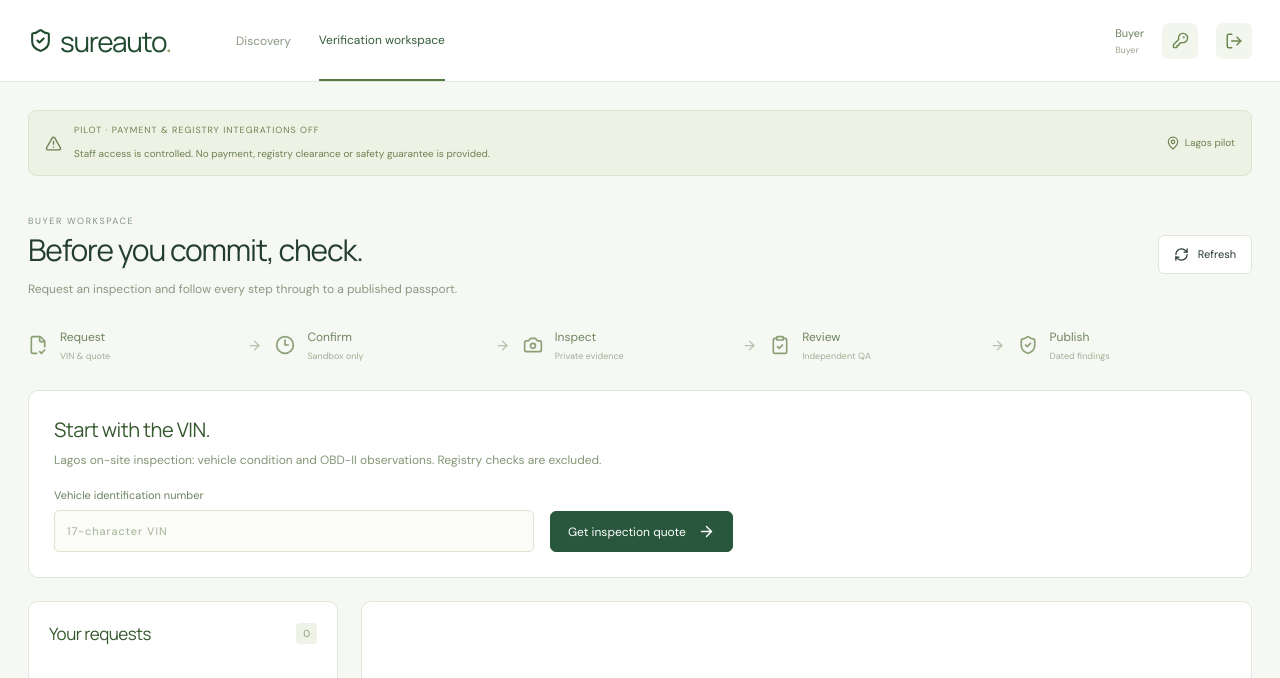
verification workspace › allows live users to change their password and reports session revocation
Check: the heading "Before you commit, check." is shown, box [28,229,363,270]
Click the button named "Open account security".
click(1180, 40)  # box [1162,22,1198,58]
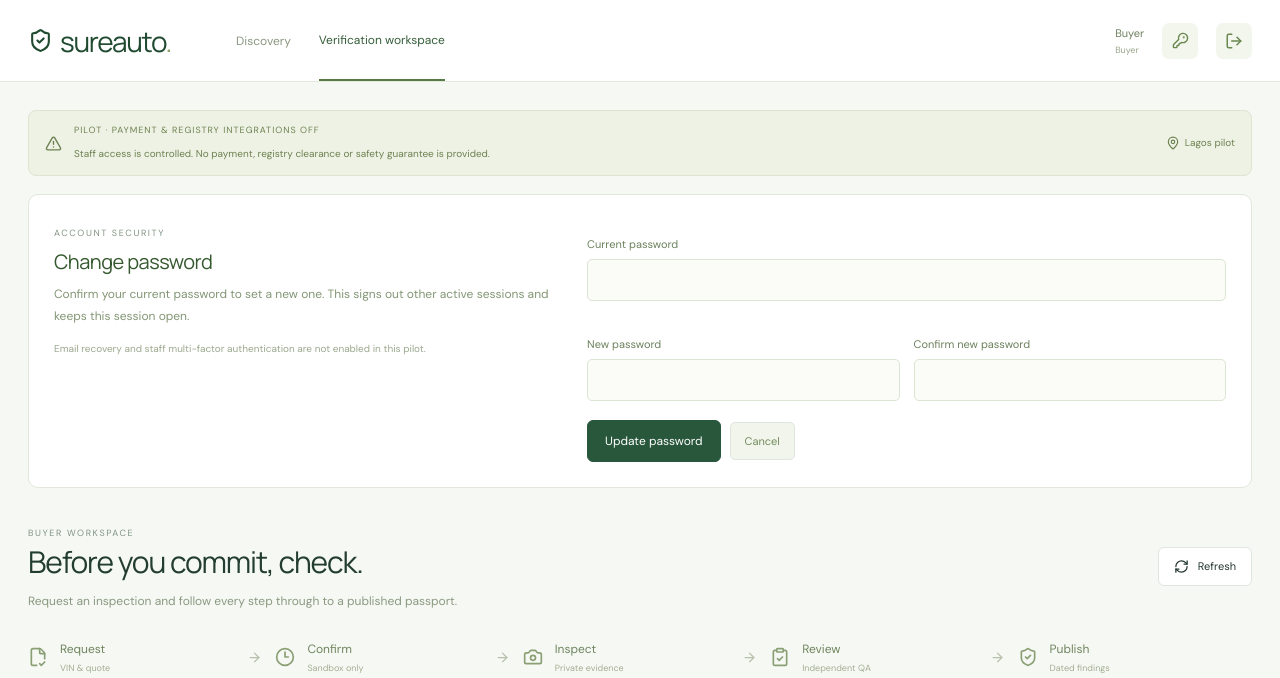
Type "old-test-password" into the password field labelled "Current password".
click(907, 280); type("old-test-password")  # box [587,259,1226,301]
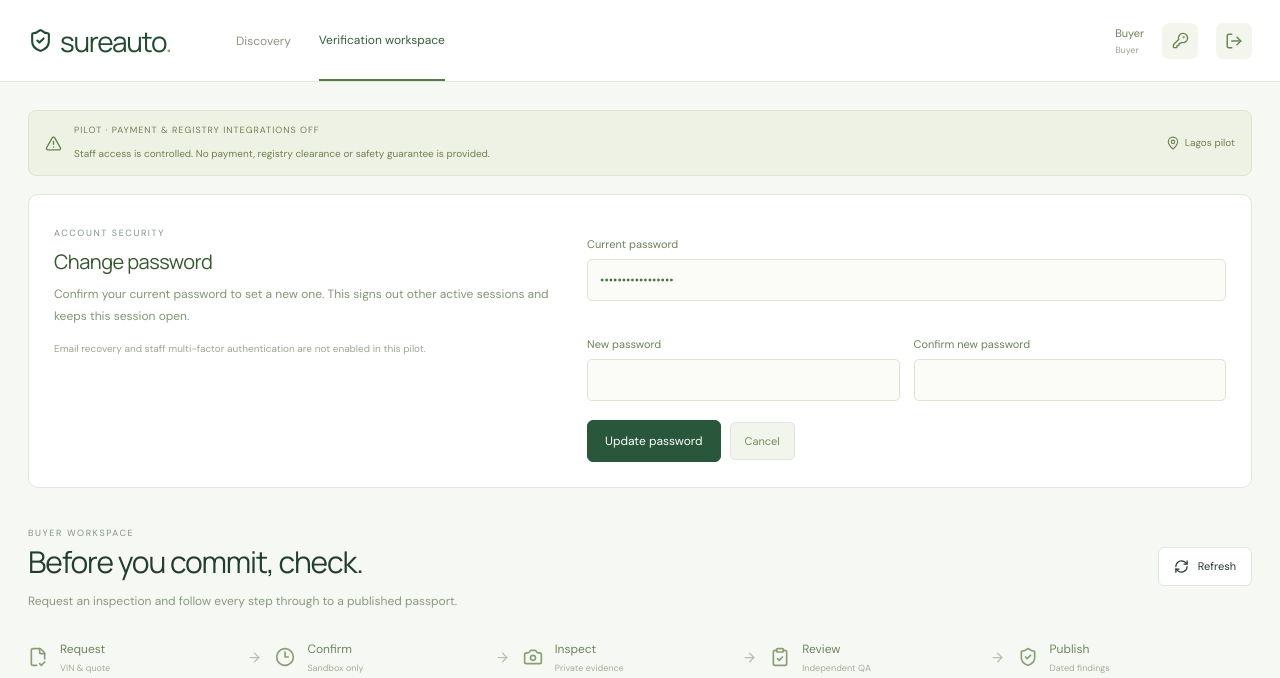
Type "new-test-password-123" into the password field labelled "New password".
click(743, 380); type("new-test-password-123")  # box [587,359,900,401]
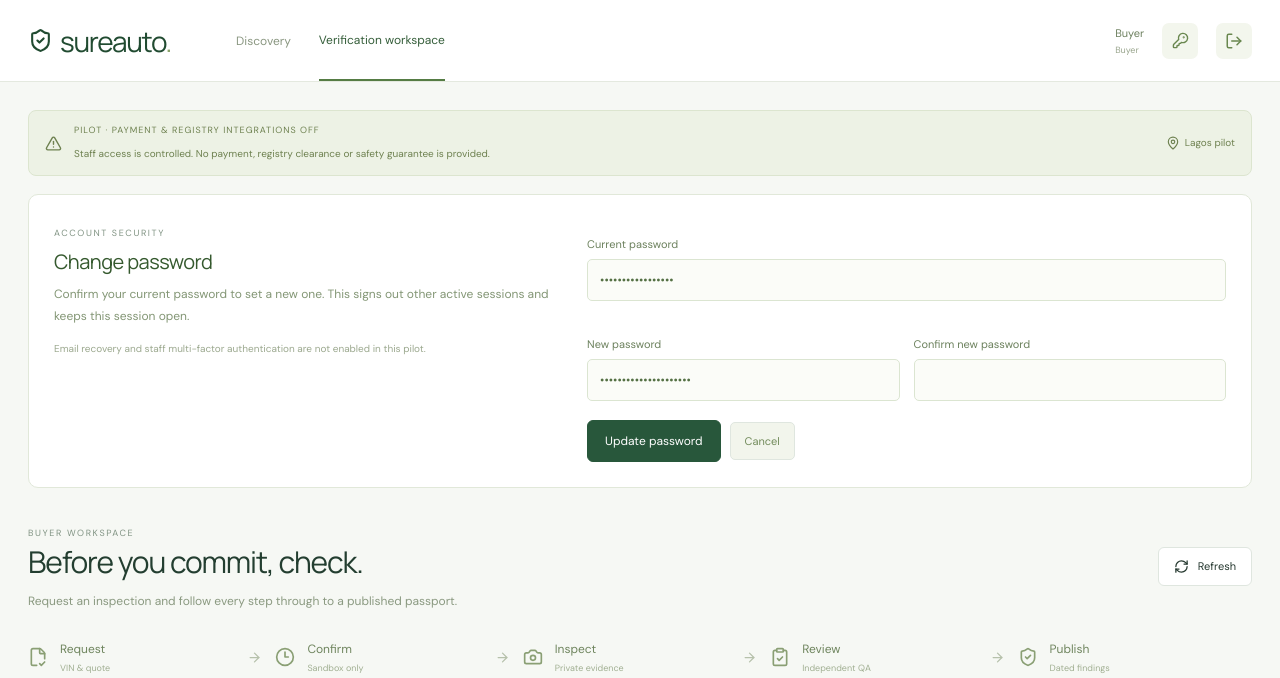
Type "new-test-password-123" into the password field labelled "Confirm new password".
click(1070, 380); type("new-test-password-123")  # box [914,359,1226,401]
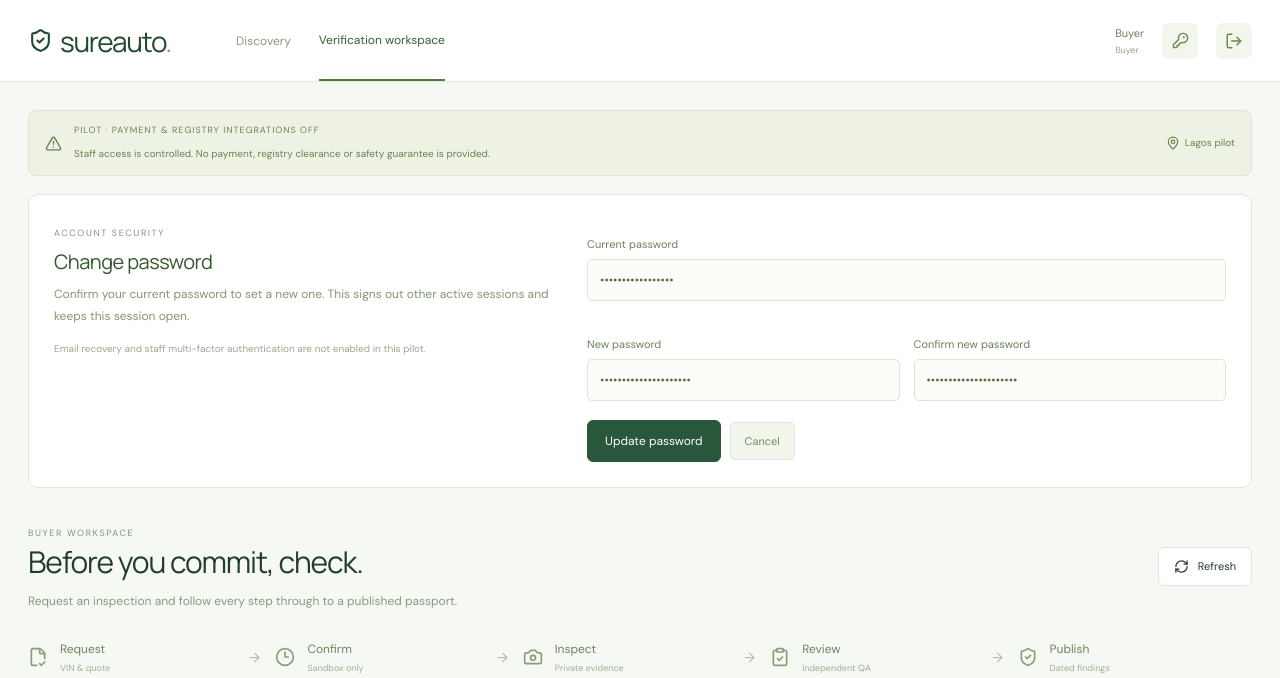
Click the button "Update password".
click(654, 441)  # box [587,420,721,462]
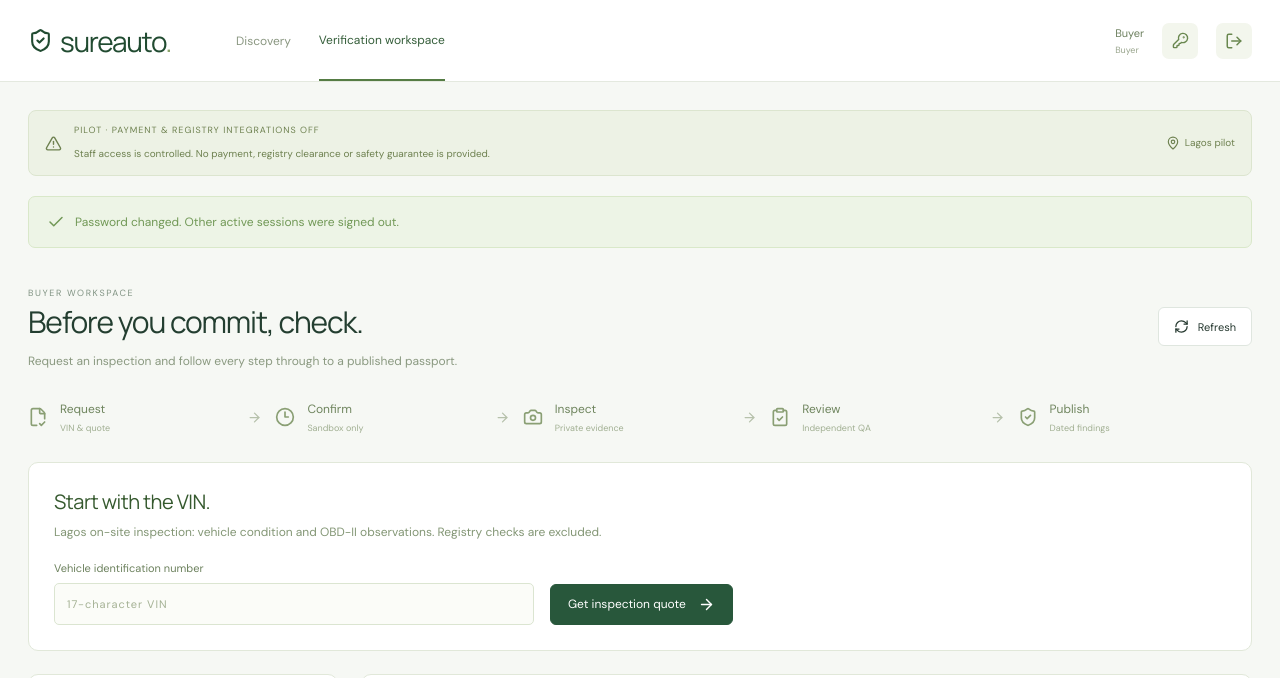
Check: the message "Password changed. Other active sessions were signed out." is shown, box [28,196,1252,248]
Check: the message shows "Other active sessions were signed out", box [75,214,399,230]
